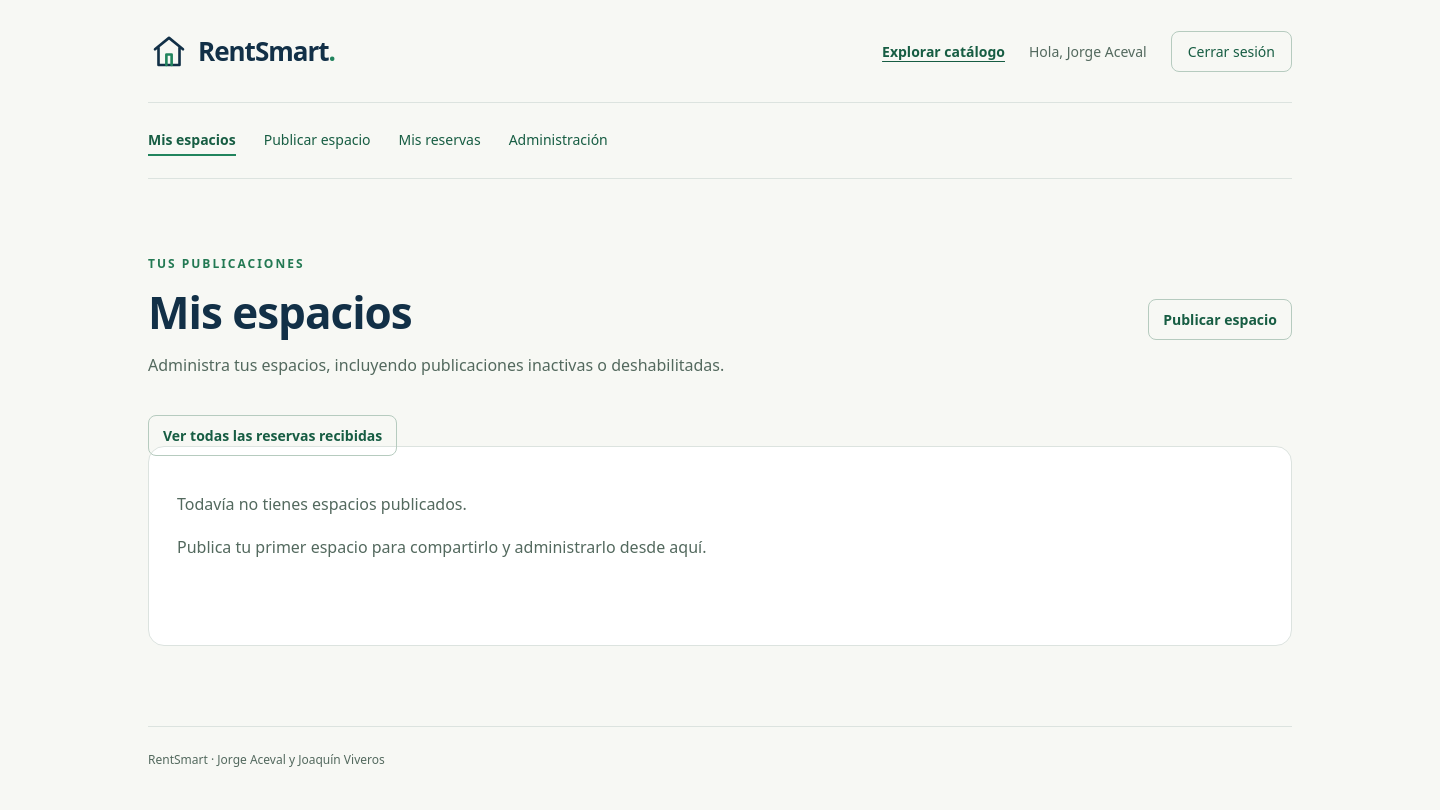
HU02 CP-08: habilita administración únicamente con autorización del servidor
Expected: the heading "Mis espacios" is shown, [148,282,412,342]
Click the link "Administración": (558, 140) [509,125,608,156]
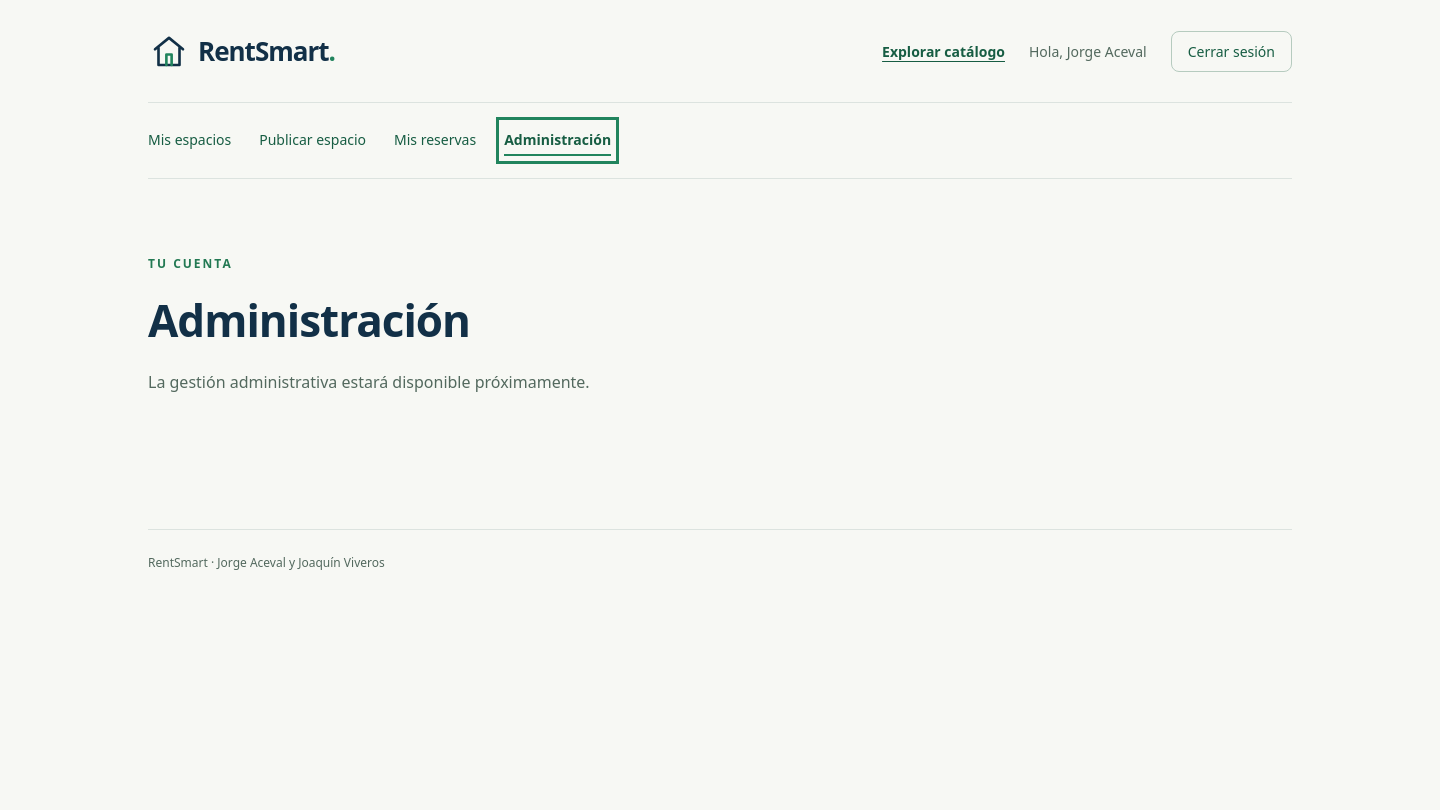
Result: the heading "Administración" is shown at [148,290,470,350]
Result: the text "La gestión administrativa estará disponible próximamente." is shown at [148,371,590,393]
